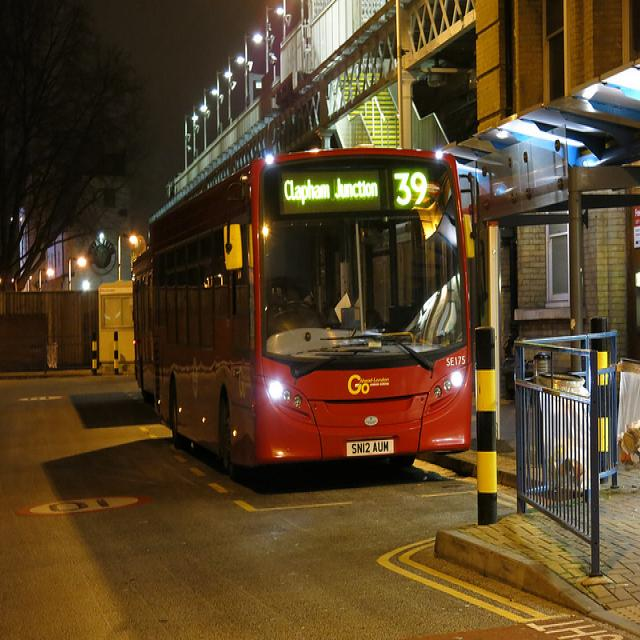Bus: (130, 154, 484, 484)
